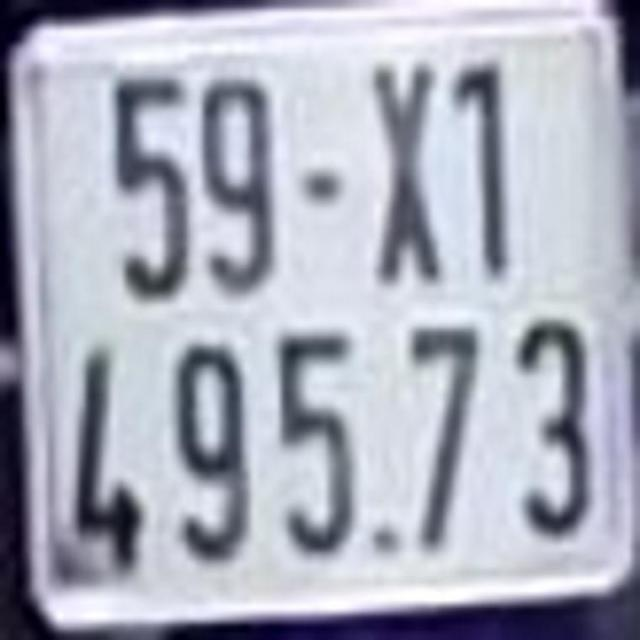1: (452, 60, 511, 279)
3: (517, 320, 590, 531)
4: (66, 343, 146, 568)
5: (275, 327, 357, 556), (112, 73, 192, 297), (410, 323, 475, 536)
9: (172, 340, 256, 550), (200, 76, 276, 284)
X: (368, 56, 445, 291)
